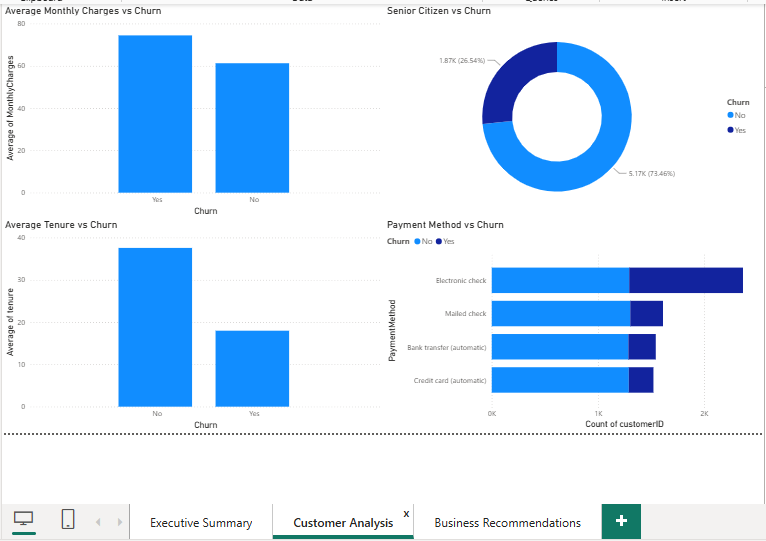

The dashboard page shown, as its layout file describes it:
{"tool":"powerbi","page":{"name":"Customer Analysis","canvas":[1280,720],"ordinal":1},"visuals":[{"type":"clusteredColumnChart","title":"Average Monthly Charges vs Churn","fields":{"Category":["WA_Fn-UseC_-Telco-Customer-Churn.Churn"],"Y":["Avg(WA_Fn-UseC_-Telco-Customer-Churn.MonthlyCharges)"]},"box":[0,0,640.9,359.9],"z":0},{"type":"clusteredColumnChart","title":"Average Tenure vs Churn","fields":{"Category":["WA_Fn-UseC_-Telco-Customer-Churn.Churn"],"Y":["Avg(WA_Fn-UseC_-Telco-Customer-Churn.tenure)"]},"box":[0,359.9,640.9,359.9],"z":1000},{"type":"barChart","title":"Payment Method vs Churn","fields":{"Category":["WA_Fn-UseC_-Telco-Customer-Churn.PaymentMethod"],"Y":["CountNonNull(WA_Fn-UseC_-Telco-Customer-Churn.customerID)"],"Series":["WA_Fn-UseC_-Telco-Customer-Churn.Churn"]},"box":[640.9,359.9,639.1,359.9],"z":2000},{"type":"donutChart","title":"Senior Citizen vs Churn","fields":{"Category":["WA_Fn-UseC_-Telco-Customer-Churn.Churn","WA_Fn-UseC_-Telco-Customer-Churn.SeniorCitizen"],"Y":["CountNonNull(WA_Fn-UseC_-Telco-Customer-Churn.customerID)"]},"box":[640.9,0,639.1,359.9],"z":3000}]}

Visuals, with their boxes on the page's 1280x720 design canvas (x1, y1, x2, y2). These are canvas units, not pixel positions in the 766x541 screenshot, which may show the page scaled, cropped or inside an application window:
"Average Monthly Charges vs Churn" clusteredColumnChart: [left=0, top=0, right=641, bottom=360]
"Average Tenure vs Churn" clusteredColumnChart: [left=0, top=360, right=641, bottom=720]
"Payment Method vs Churn" barChart: [left=641, top=360, right=1280, bottom=720]
"Senior Citizen vs Churn" donutChart: [left=641, top=0, right=1280, bottom=360]
